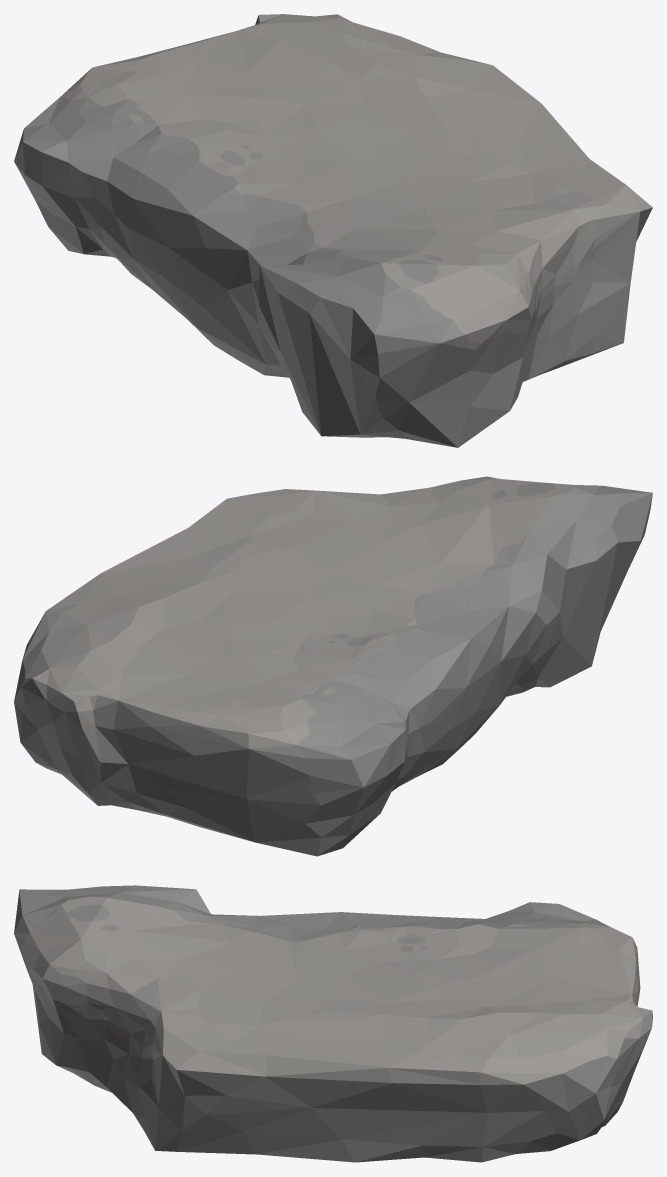
Rendered from Cavern_Floor_Border_Edge-01.fbx.
3 renders of one model, top to bottom at view 1: azimuth 30°, elevation 25°; view 2: azimuth 150°, elevation 25°; view 3: azimuth 270°, elevation 25°, orthographic. The views are drawn at different scales.
Parts seen in each view (by area): view 1: Cavern_Floor_Border_Edge-01; view 2: Cavern_Floor_Border_Edge-01; view 3: Cavern_Floor_Border_Edge-01.
Boxes of the visible parts, x1,y1,x2,y2 form: Cavern_Floor_Border_Edge-01: (14, 14, 652, 447); Cavern_Floor_Border_Edge-01: (14, 476, 652, 856); Cavern_Floor_Border_Edge-01: (14, 885, 652, 1162).
Size of the model in its own units: 1348 by 568 by 2079.
1 material, 1 textured.
